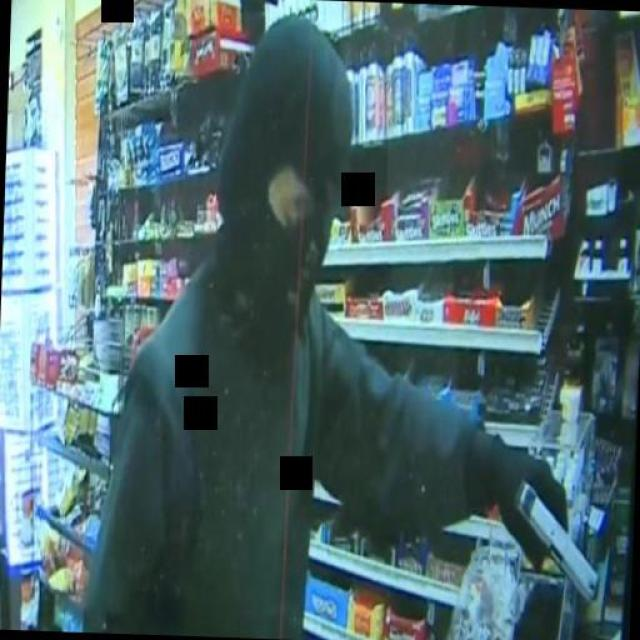gun: (501, 449, 605, 605)
